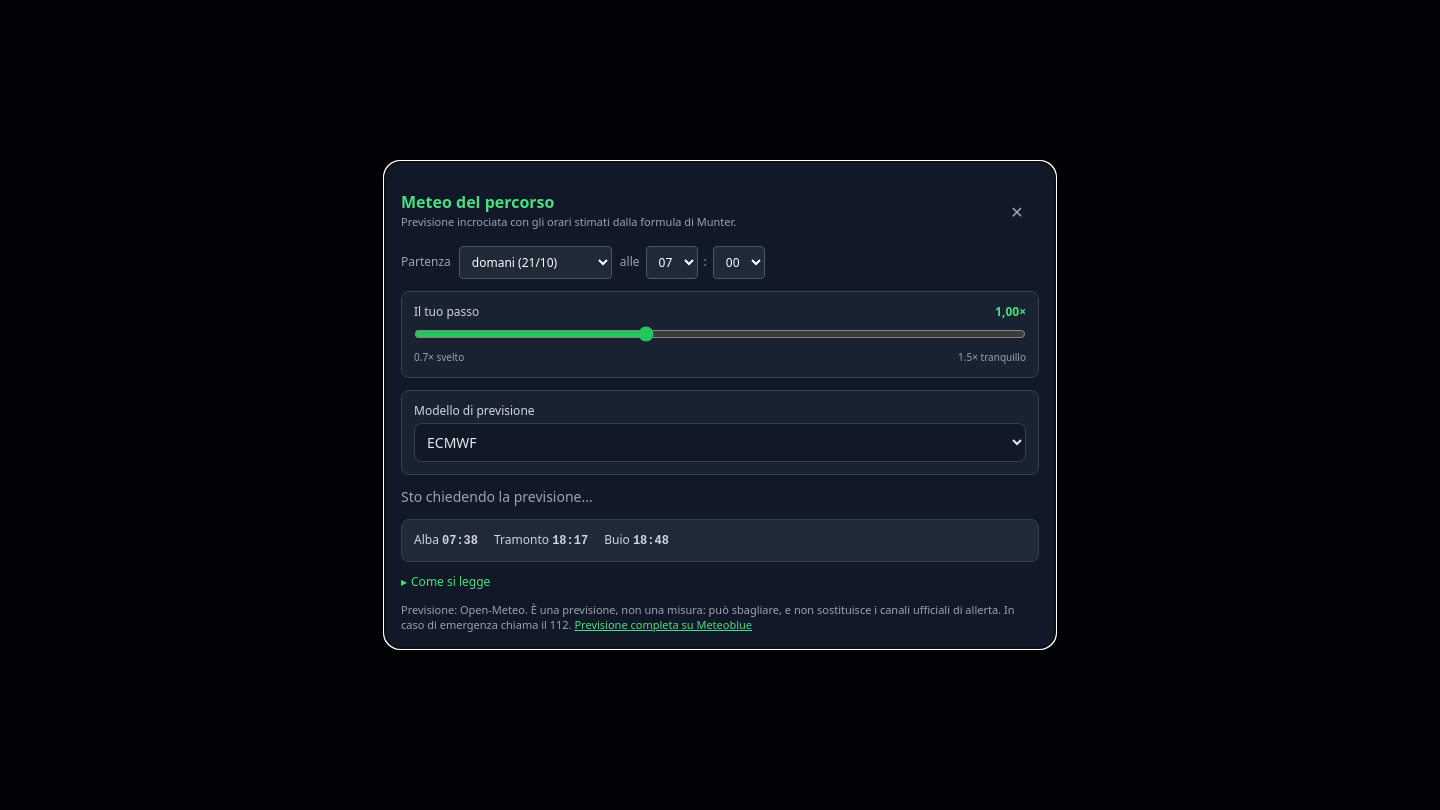
Test: Meteo del percorso › la parte didattica spiega il CAPE e la regola 30/30
The image size is (1440, 810).
Click the button "▸ Come si legge": (446,582) [401,574,490,590]
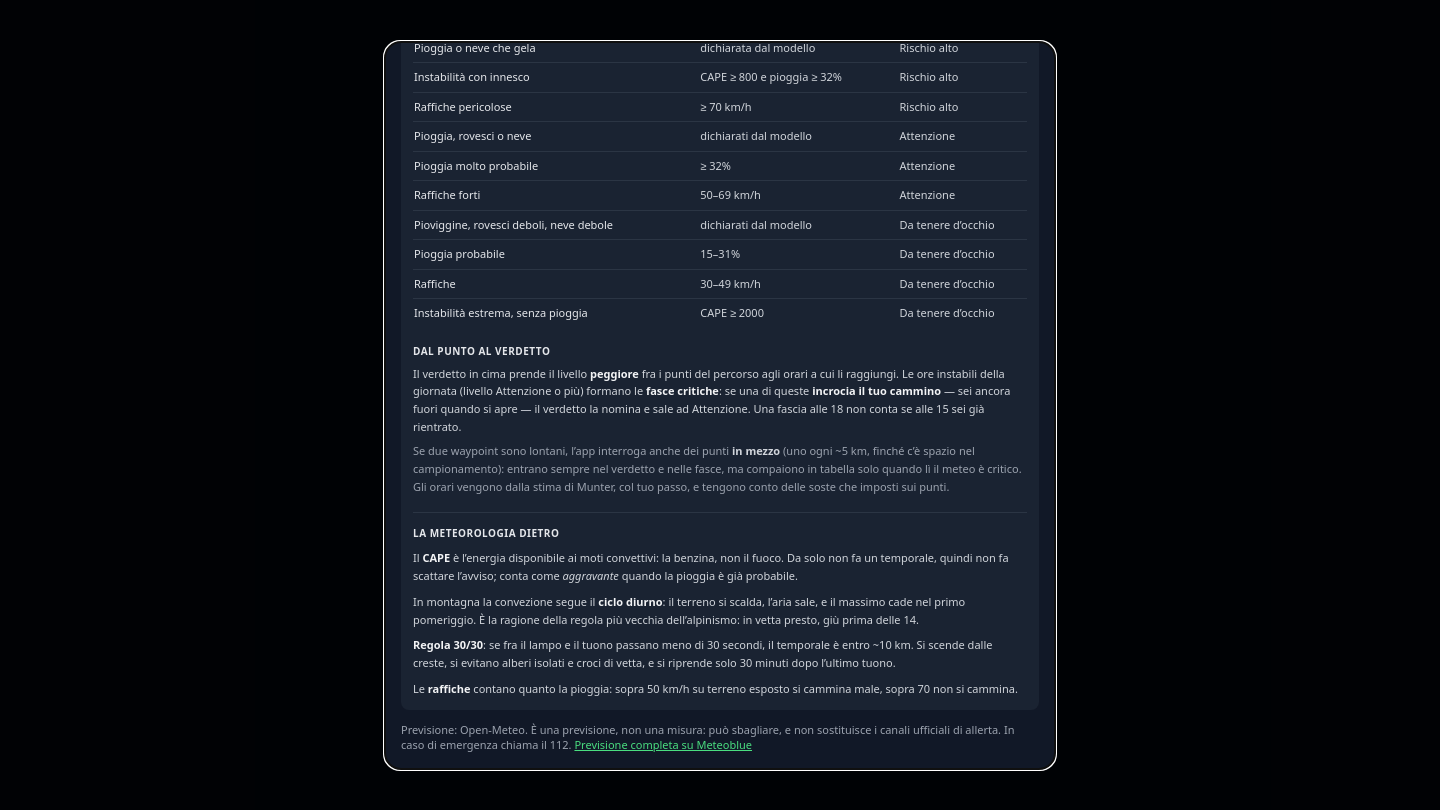
Result: the text "energia disponibile" is shown at [413,550,1009,583]
Result: the text "Regola 30/30" is shown at [413,637,483,652]
